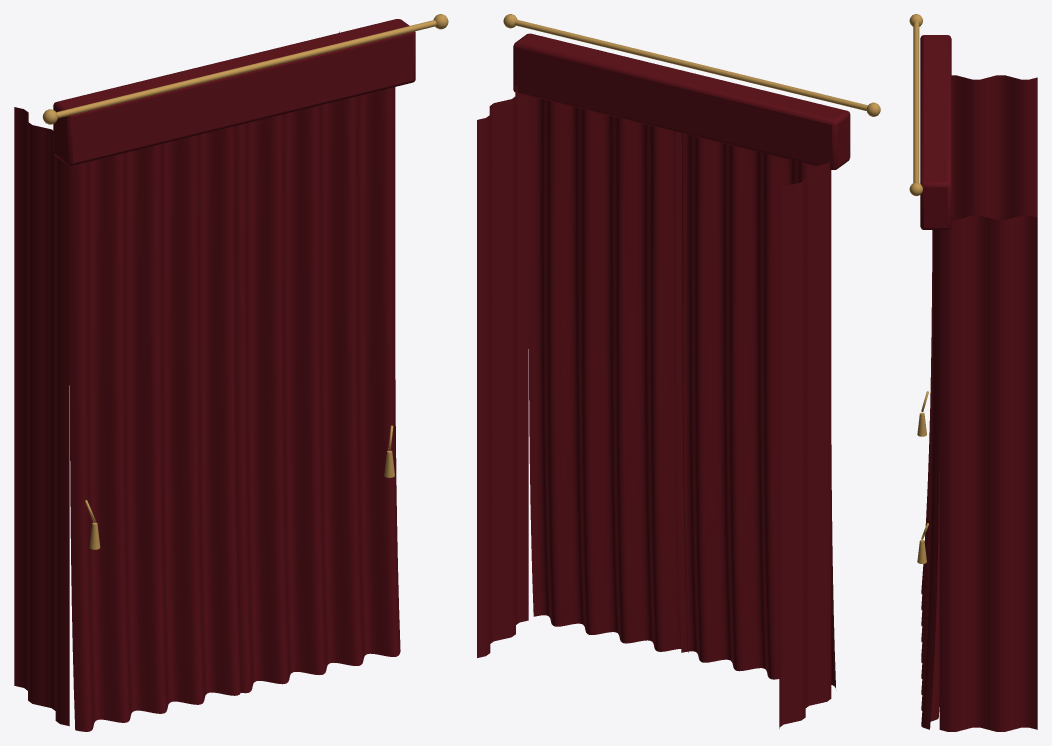
The model's file is drape.glb.
The picture shows the model from 3 angles, left to right: view 1: azimuth 30°, elevation 25°; view 2: azimuth 150°, elevation 25°; view 3: azimuth 270°, elevation 25°; orthographic projection. The views are drawn at different scales.
Parts seen in each view (by area): view 1: drape_velvet, drape_brass; view 2: drape_velvet, drape_brass; view 3: drape_velvet, drape_brass.
Part boxes in pixels (left/top/right/bottom): drape_velvet: left=14, top=19, right=415, bottom=731; drape_brass: left=42, top=14, right=448, bottom=549; drape_velvet: left=477, top=33, right=850, bottom=728; drape_brass: left=503, top=14, right=880, bottom=116; drape_velvet: left=920, top=35, right=1037, bottom=731; drape_brass: left=909, top=14, right=928, bottom=563.
Size of the model in its own units: 2.11 by 3.17 by 0.6549.
